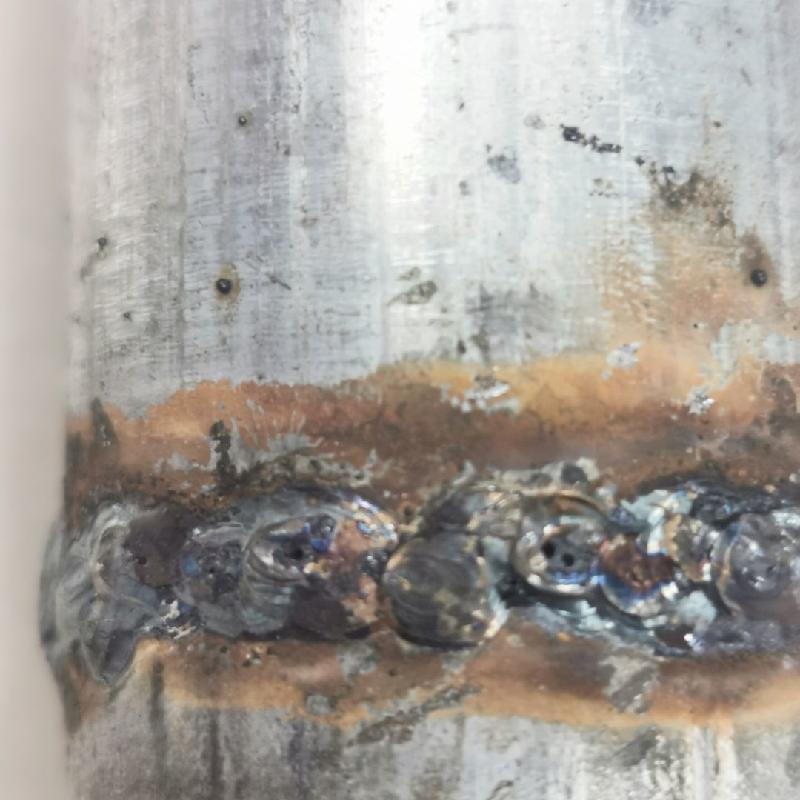Surface_pores: (278, 540, 318, 576)
crater: (492, 484, 783, 640)
